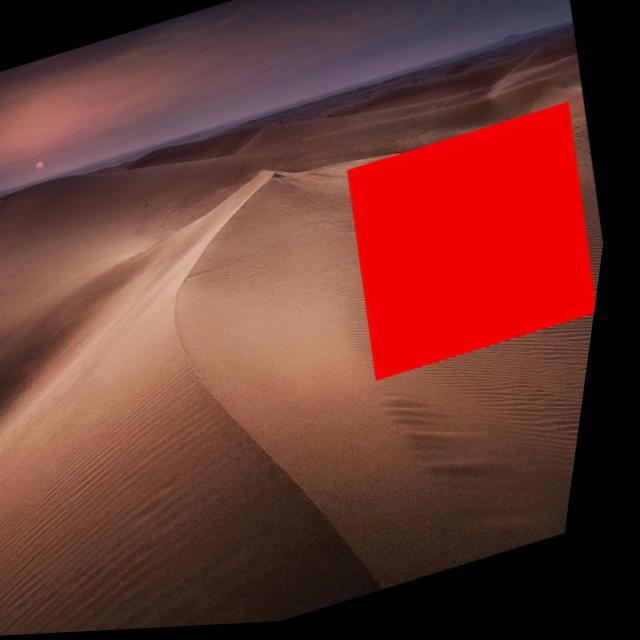RedSquare: (324, 100, 627, 394)
